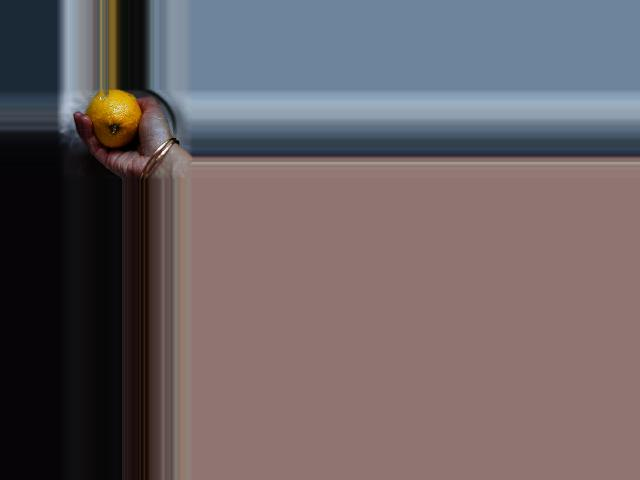lemon: (86, 91, 138, 149)
